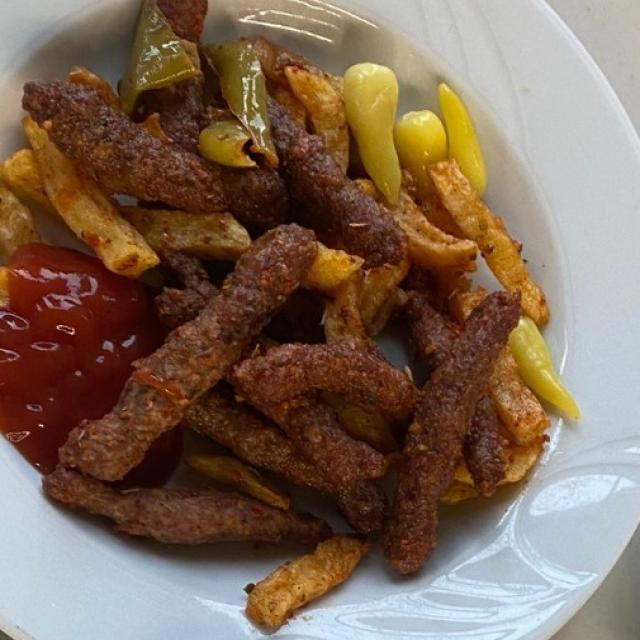ana_yemek: (0, 0, 579, 634)
